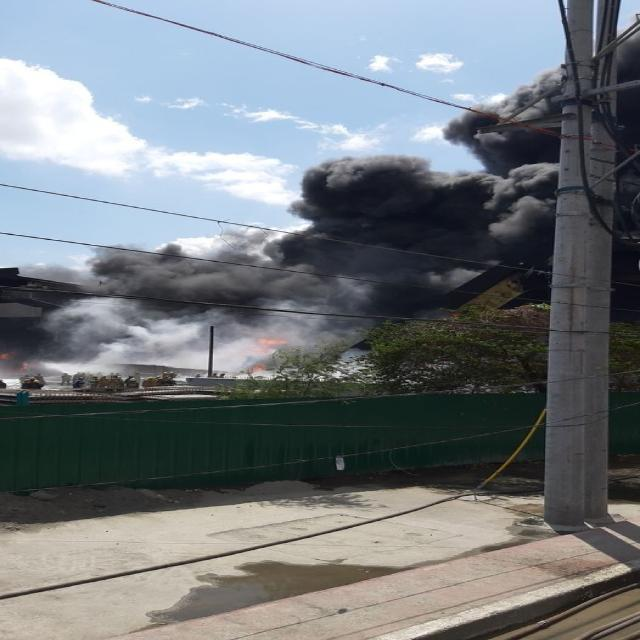Smoke: (112, 250, 380, 358), (322, 165, 548, 270), (444, 110, 544, 218)
